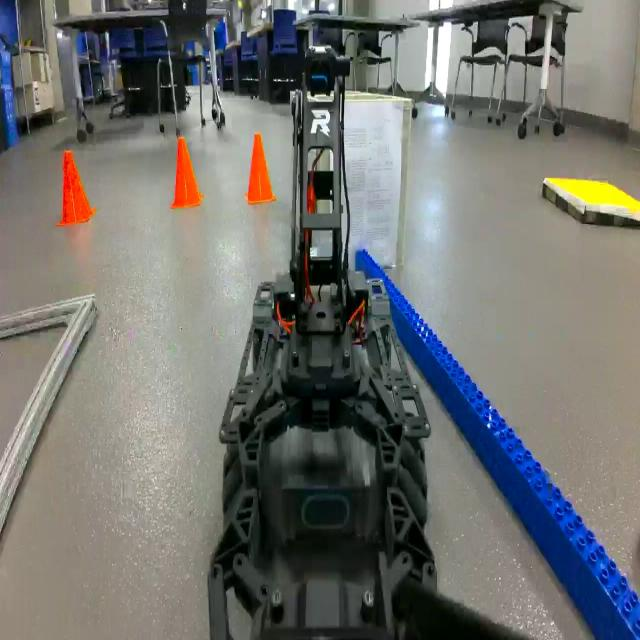cone: (56, 138, 95, 228), (169, 127, 204, 213), (243, 130, 278, 208)
metal barrier: (0, 268, 100, 542)
river: (355, 225, 640, 640)
robot: (216, 38, 430, 570)
yellow goal: (540, 168, 640, 232)
